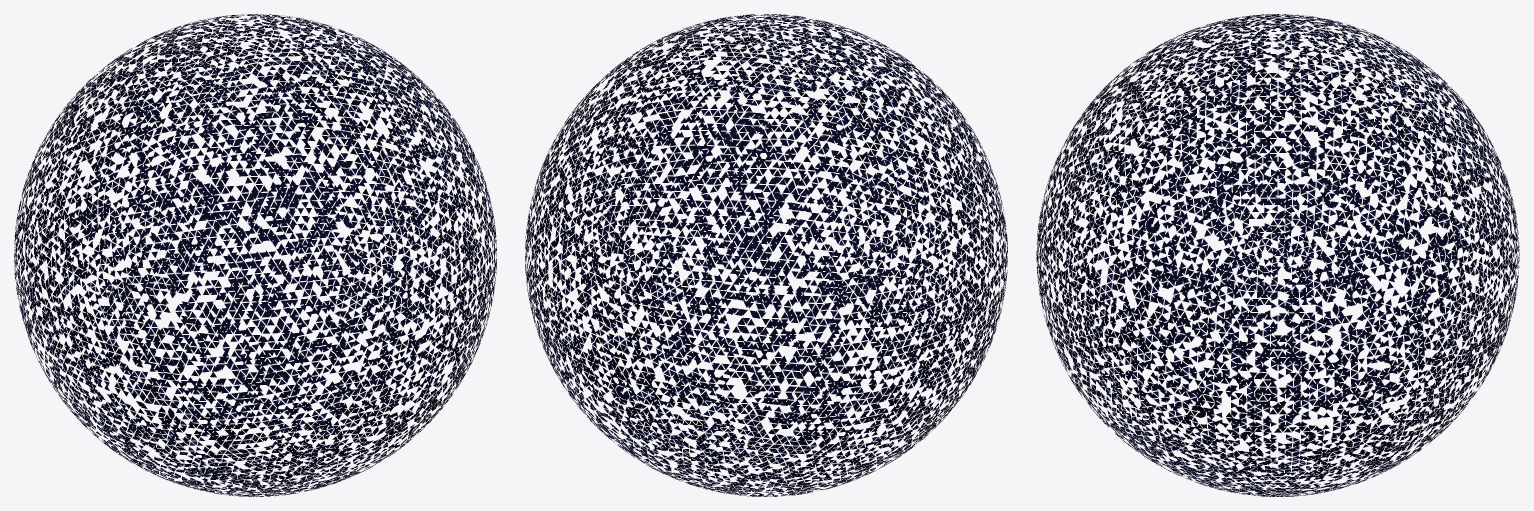
File: geodesic.fbx
3 renders of one model, left to right at view 1: azimuth 30°, elevation 25°; view 2: azimuth 150°, elevation 25°; view 3: azimuth 270°, elevation 25°, orthographic.
Parts seen in each view (by area): view 1: Icosphere; view 2: Icosphere; view 3: Icosphere.
Part boxes in pixels (x1,y1,x2,y2): Icosphere: [14, 14, 496, 496]; Icosphere: [525, 14, 1007, 496]; Icosphere: [1036, 14, 1519, 496].
Size of the model in its own units: 200 by 200 by 200.
